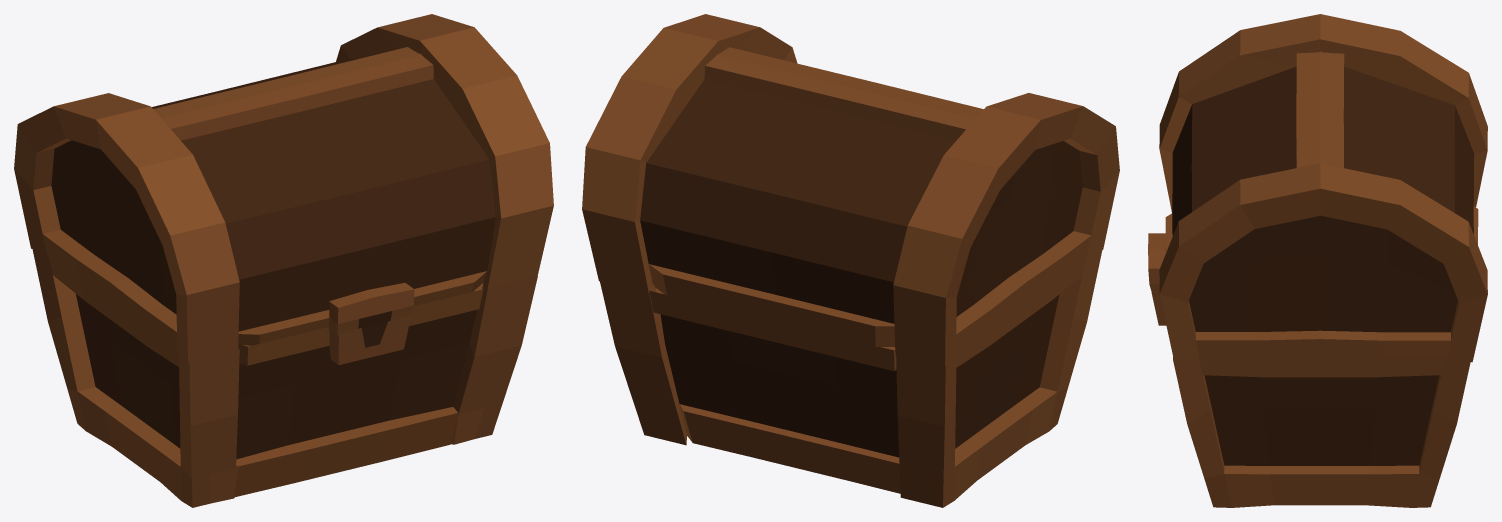
File: chest.glb
3 views of the same model, side by side, from view 1: azimuth 30°, elevation 25°; view 2: azimuth 150°, elevation 25°; view 3: azimuth 270°, elevation 25° (orthographic). The views are drawn at different scales.
Parts seen in each view (by area): view 1: Object_41, Object_39; view 2: Object_41, Object_39; view 3: Object_41, Object_39.
Part boxes in pixels (x1,y1,x2,y2): Object_41: (14, 14, 553, 363); Object_39: (32, 249, 537, 507); Object_41: (582, 14, 1119, 365); Object_39: (600, 250, 1102, 507); Object_41: (1148, 14, 1487, 362); Object_39: (1151, 293, 1471, 507).
Size of the model in its own units: 2.58 by 2.32 by 2.12.
2 materials, 2 textured.
